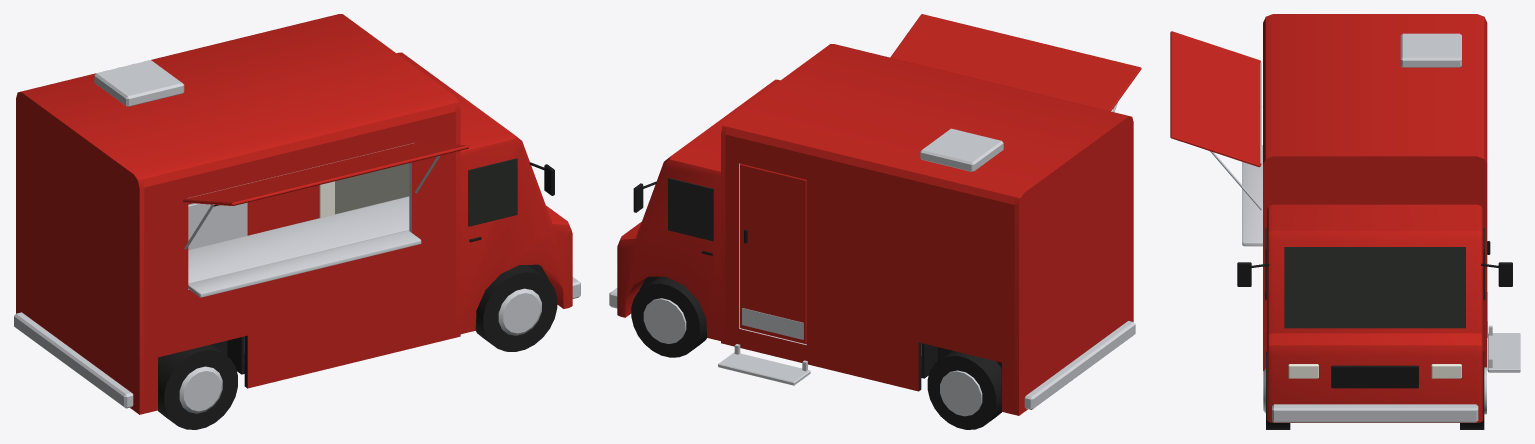
Rendered from food_truck.glb.
3 views of the same model, side by side, from view 1: azimuth 30°, elevation 25°; view 2: azimuth 150°, elevation 25°; view 3: azimuth 270°, elevation 25° (orthographic). The views are drawn at different scales.
Visible parts, largest first — view 1: pieza_pintura, food_truck_estructura, pieza_toldo, pieza_puerta; view 2: pieza_pintura, food_truck_estructura, pieza_toldo, pieza_puerta; view 3: pieza_pintura, food_truck_estructura, pieza_toldo.
Boxes of the visible parts, x1=… form: pieza_pintura: x1=16, y1=14, x2=572, y2=414; food_truck_estructura: x1=14, y1=60, x2=580, y2=429; pieza_toldo: x1=183, y1=142, x2=468, y2=205; pieza_puerta: x1=247, y1=185, x2=318, y2=235; pieza_pintura: x1=617, y1=44, x2=1133, y2=415; food_truck_estructura: x1=609, y1=102, x2=1135, y2=429; pieza_toldo: x1=890, y1=14, x2=1141, y2=111; pieza_puerta: x1=740, y1=164, x2=806, y2=343; pieza_pintura: x1=1263, y1=14, x2=1487, y2=422; food_truck_estructura: x1=1210, y1=33, x2=1520, y2=429; pieza_toldo: x1=1170, y1=31, x2=1261, y2=167.
Size of what is drawn, in the model's own units: 4.69 by 2.72 by 3.43.
